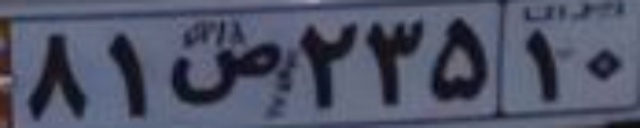0: (581, 48, 624, 80)
1: (106, 33, 148, 115), (520, 27, 557, 100)
2: (298, 21, 357, 108)
3: (363, 18, 428, 107)
5: (430, 18, 488, 100)
8: (24, 33, 88, 120)
saat: (166, 41, 282, 105)
